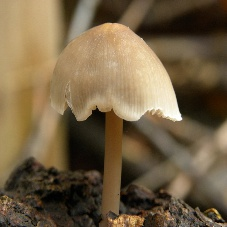mushroom: (49, 18, 181, 220)
